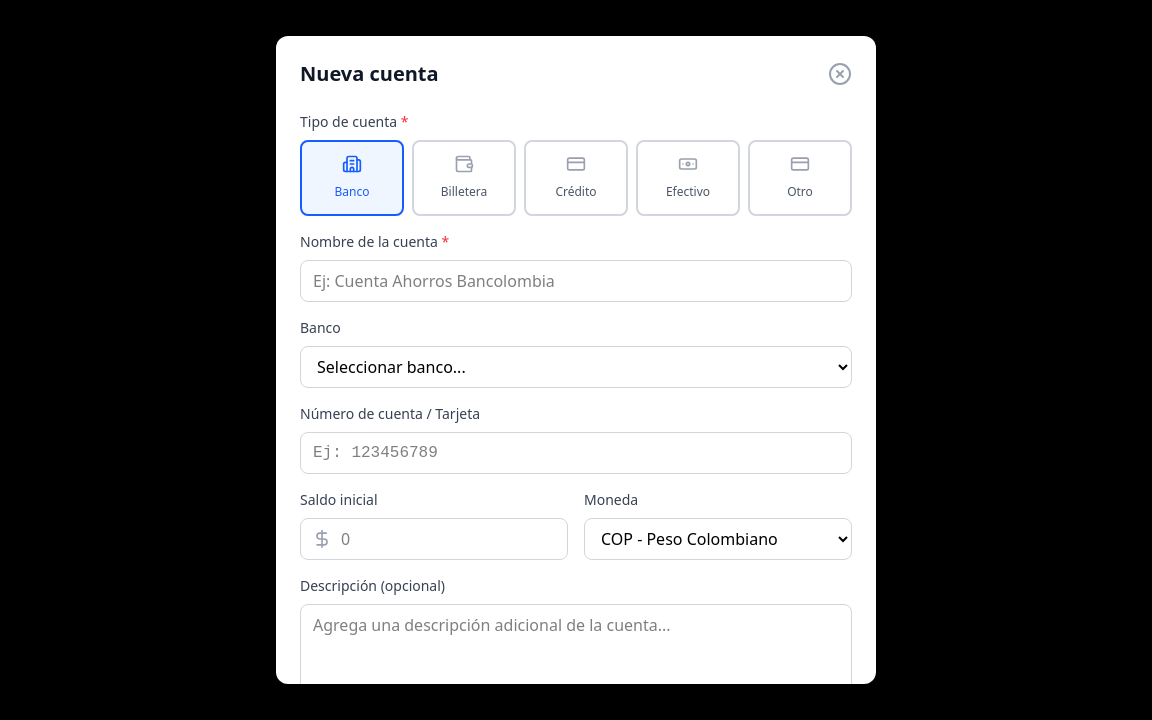
NewAccountModal › debe deshabilitar tipo activo/pasivo para tarjetas de crédito
Expected: the text "Crédito" is shown, [555,183,596,200]
Click the button "Crédito" at (576, 178), box [524,140,628,216]
(page scrolled)
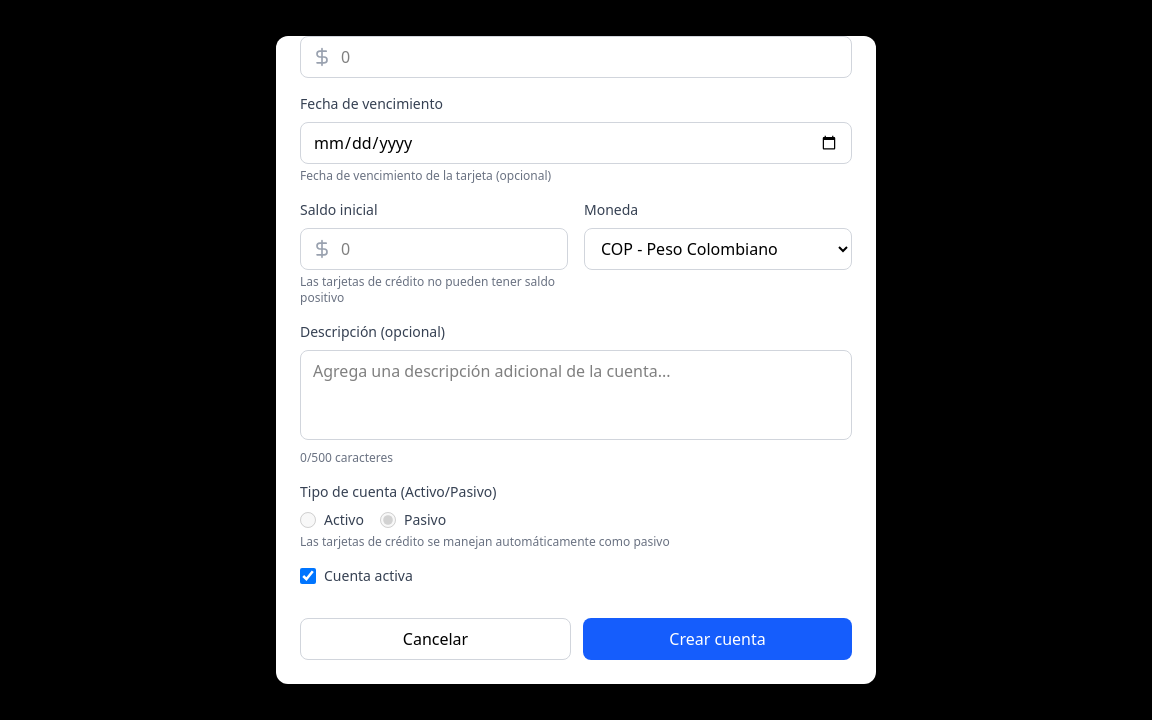
Now the radio button labelled "Activo" is disabled, box [300,512,316,528]
